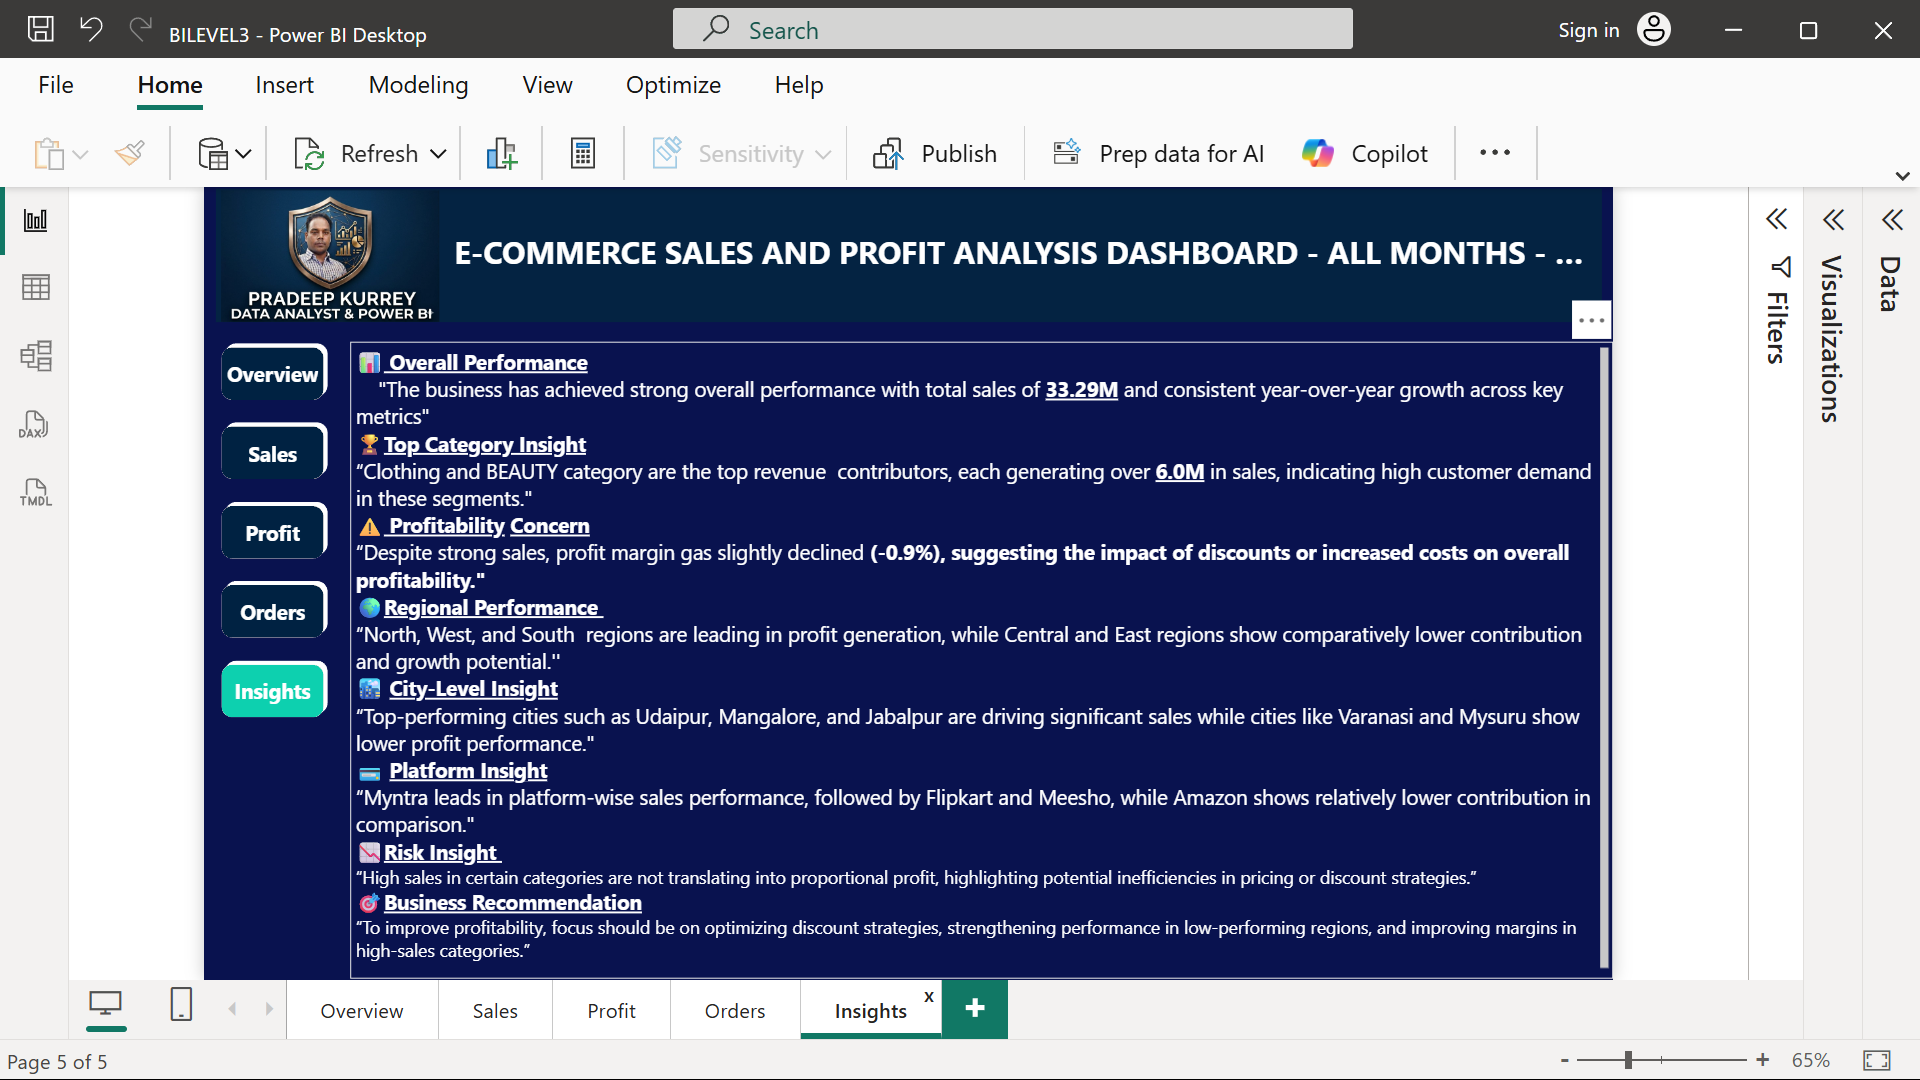

This screenshot's page, from the dashboard's own definition file:
{"tool":"powerbi","page":{"name":"Insights","canvas":[1280,720],"ordinal":4},"visuals":[{"type":"group","id":"g1","title":"Group 1","box":[10.7,1.7,1258.6,121.4],"z":0},{"type":"textbox","box":[10.7,1.7,1258.6,121.4],"z":0,"group":"g1"},{"type":"image","box":[10.7,3.5,207.9,119.6],"z":1000,"group":"g1"},{"type":"pageNavigator","box":[11,139.8,103,349.6],"z":2000},{"type":"textbox","box":[223.1,40.4,1046.2,82.7],"z":4000},{"type":"textbox","box":[132.5,139.8,1148.2,579.6],"z":5000}]}

Visuals, with their boxes on the page's 1280x720 design canvas (x1, y1, x2, y2). These are canvas units, not pixel positions in the 1920x1080 screenshot, which may show the page scaled, cropped or inside an application window:
"Group 1" group: <bbox>11, 2, 1269, 123</bbox>
textbox: <bbox>11, 2, 1269, 123</bbox>
image: <bbox>11, 4, 219, 123</bbox>
pageNavigator: <bbox>11, 140, 114, 489</bbox>
textbox: <bbox>223, 40, 1269, 123</bbox>
textbox: <bbox>132, 140, 1281, 719</bbox>
